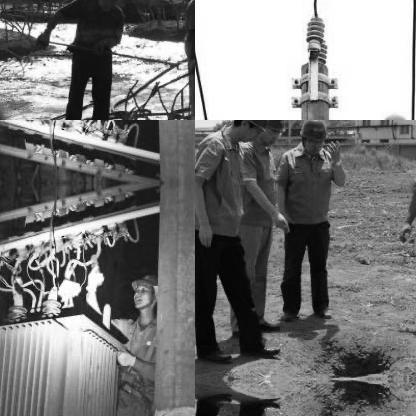Helmet: (128, 274, 158, 316), (229, 120, 273, 143), (297, 120, 327, 152), (259, 120, 284, 144), (375, 108, 411, 119), (96, 0, 125, 7)
